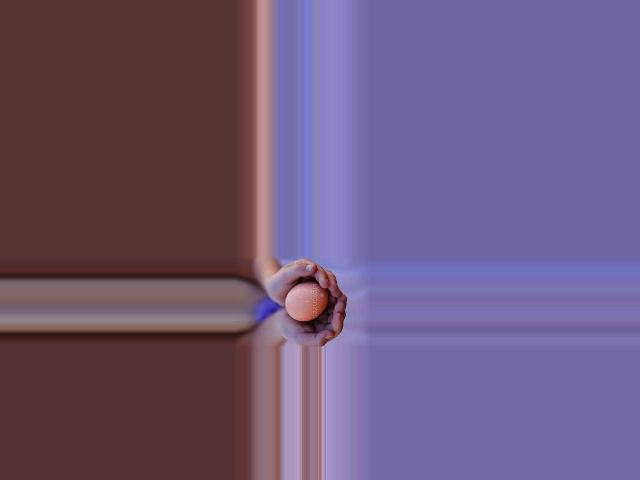egg: (284, 282, 328, 322)
